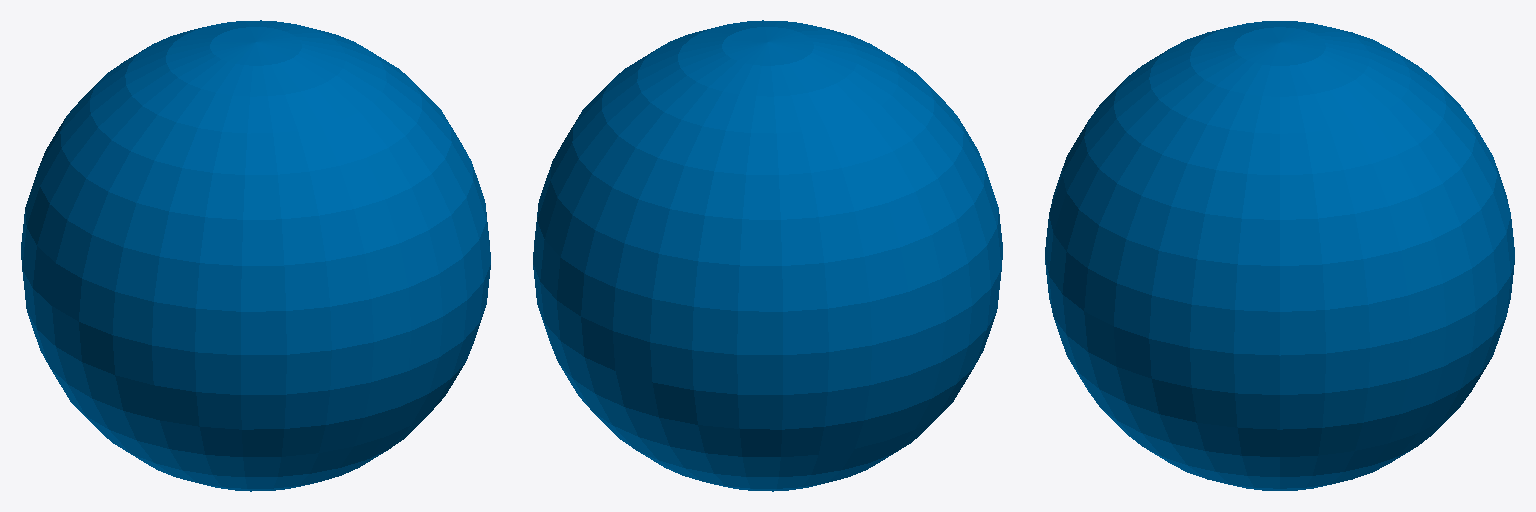
robot.urdf — gen3_robotiq_2f_85:
<?xml version="1.0" ?>
<!-- =================================================================================== -->
<!-- |    This document was autogenerated by xacro from gen3_robotiq_2f_85.xacro       | -->
<!-- |    EDITING THIS FILE BY HAND IS NOT RECOMMENDED                                 | -->
<!-- =================================================================================== -->
<robot name="gen3_robotiq_2f_85">
  <link name="base_link"/>
  <joint name="base_joint" type="fixed">
    <origin rpy="0 0 0" xyz="0 0 0"/>
    <parent link="base_link"/>
    <child link="base_link_inertia"/>
  </joint>

  <!-- Run the macros -->
  <link name="base_link_inertia">
    <inertial>
      <origin rpy="0 0 0" xyz="-0.000648 -0.000166 0.084487"/>
      <mass value="1.697"/>
      <inertia ixx="0.004622" ixy="9E-06" ixz="6E-05" iyy="0.004495" iyz="9E-06" izz="0.002079"/>
    </inertial>
    <visual>
      <origin rpy="0 0 0" xyz="0 0 0"/>
      <geometry>
        <mesh filename="meshes/7dof/base_link.STL"/>
      </geometry>
      <material name="">
        <color rgba="0.75294 0.75294 0.75294 1"/>
      </material>
    </visual>
    <collision>
      <origin rpy="0 0 0" xyz="0 0 0"/>
      <geometry>
        <mesh filename="meshes/7dof/base_link.STL"/>
      </geometry>
    </collision>
  </link>
  <link name="shoulder_link">
    <inertial>
      <origin rpy="0 0 0" xyz="-2.3E-05 -0.010364 -0.07336"/>
      <mass value="1.3773"/>
      <inertia ixx="0.00457" ixy="1E-06" ixz="2E-06" iyy="0.004831" iyz="0.000448" izz="0.001409"/>
    </inertial>
    <visual>
      <origin rpy="0 0 0" xyz="0 0 0"/>
      <geometry>
        <mesh filename="meshes/7dof/shoulder_link.STL"/>
      </geometry>
      <material name="">
        <color rgba="0.75294 0.75294 0.75294 1"/>
      </material>
    </visual>
    <collision>
      <origin rpy="0 0 0" xyz="0 0 0"/>
      <geometry>
        <mesh filename="meshes/7dof/shoulder_link.STL"/>
      </geometry>
    </collision>
  </link>
  <joint name="joint_1" type="revolute">
    <!-- <origin rpy="3.1416 2.7629E-18 -4.9305E-36" xyz="0 0 0.15643"/> -->
    <origin rpy="3.1416 2.7629E-18 -4.9305E-36" xyz="0 0 0.17643"/>
    <parent link="base_link"/>
    <child link="shoulder_link"/>
    <axis xyz="0 0 1"/>
    <limit effort="39" lower="-3.14" upper="3.14" velocity="1.3963"/>
  </joint>
  <link name="half_arm_1_link">
    <inertial>
      <origin rpy="0 0 0" xyz="-4.4E-05 -0.09958 -0.013278"/>
      <mass value="1.1636"/>
      <inertia ixx="0.011088" ixy="5E-06" ixz="0" iyy="0.001072" iyz="-0.000691" izz="0.011255"/>
    </inertial>
    <visual>
      <origin rpy="0 0 0" xyz="0 0 0"/>
      <geometry>
        <mesh filename="meshes/7dof/half_arm_1_link.STL"/>
      </geometry>
      <material name="">
        <color rgba="0.75294 0.75294 0.75294 1"/>
      </material>
    </visual>
    <collision>
      <origin rpy="0 0 0" xyz="0 0 0"/>
      <geometry>
        <mesh filename="meshes/7dof/half_arm_1_link.STL"/>
      </geometry>
    </collision>
  </link>
  <joint name="joint_2" type="revolute">
    <origin rpy="1.5708 2.1343E-17 -1.1102E-16" xyz="0 0.005375 -0.12838"/>
    <parent link="shoulder_link"/>
    <child link="half_arm_1_link"/>
    <axis xyz="0 0 1"/>
    <limit effort="39" lower="-2.24" upper="2.24" velocity="1.3963"/>
  </joint>
  <link name="half_arm_2_link">
    <inertial>
      <origin rpy="0 0 0" xyz="-4.4E-05 -0.006641 -0.117892"/>
      <mass value="1.1636"/>
      <inertia ixx="0.010932" ixy="0" ixz="-7E-06" iyy="0.011127" iyz="0.000606" izz="0.001043"/>
    </inertial>
    <visual>
      <origin rpy="0 0 0" xyz="0 0 0"/>
      <geometry>
        <mesh filename="meshes/7dof/half_arm_2_link.STL"/>
      </geometry>
      <material name="">
        <color rgba="0.75294 0.75294 0.75294 1"/>
      </material>
    </visual>
    <collision>
      <origin rpy="0 0 0" xyz="0 0 0"/>
      <geometry>
        <mesh filename="meshes/7dof/half_arm_2_link.STL"/>
      </geometry>
    </collision>
  </link>
  <joint name="joint_3" type="revolute">
    <origin rpy="-1.5708 1.2326E-32 -2.9122E-16" xyz="0 -0.21038 -0.006375"/>
    <parent link="half_arm_1_link"/>
    <child link="half_arm_2_link"/>
    <axis xyz="0 0 1"/>
    <limit effort="39" lower="-3.14" upper="3.14" velocity="1.3963"/>
  </joint>
  <link name="forearm_link">
    <inertial>
      <origin rpy="0 0 0" xyz="-1.8E-05 -0.075478 -0.015006"/>
      <mass value="0.9302"/>
      <inertia ixx="0.008147" ixy="-1E-06" ixz="0" iyy="0.000631" iyz="-0.0005" izz="0.008316"/>
    </inertial>
    <visual>
      <origin rpy="0 0 0" xyz="0 0 0"/>
      <geometry>
        <mesh filename="meshes/7dof/forearm_link.STL"/>
      </geometry>
      <material name="">
        <color rgba="0.75294 0.75294 0.75294 1"/>
      </material>
    </visual>
    <collision>
      <origin rpy="0 0 0" xyz="0 0 0"/>
      <geometry>
        <mesh filename="meshes/7dof/forearm_link.STL"/>
      </geometry>
    </collision>
  </link>
  <joint name="joint_4" type="revolute">
    <origin rpy="1.5708 -6.6954E-17 -1.6653E-16" xyz="0 0.006375 -0.21038"/>
    <parent link="half_arm_2_link"/>
    <child link="forearm_link"/>
    <axis xyz="0 0 1"/>
    <limit effort="39" lower="-2.57" upper="2.57" velocity="1.3963"/>
  </joint>
  <link name="spherical_wrist_1_link">
    <inertial>
      <origin rpy="0 0 0" xyz="1E-06 -0.009432 -0.063883"/>
      <mass value="0.6781"/>
      <inertia ixx="0.001596" ixy="0" ixz="0" iyy="0.001607" iyz="0.000256" izz="0.000399"/>
    </inertial>
    <visual>
      <origin rpy="0 0 0" xyz="0 0 0"/>
      <geometry>
        <mesh filename="meshes/7dof/spherical_wrist_1_link.STL"/>
      </geometry>
      <material name="">
        <color rgba="0.75294 0.75294 0.75294 1"/>
      </material>
    </visual>
    <collision>
      <origin rpy="0 0 0" xyz="0 0 0"/>
      <geometry>
        <mesh filename="meshes/7dof/spherical_wrist_1_link.STL"/>
      </geometry>
    </collision>
  </link>
  <joint name="joint_5" type="revolute">
    <origin rpy="-1.5708 2.2204E-16 -6.373E-17" xyz="0 -0.20843 -0.006375"/>
    <parent link="forearm_link"/>
    <child link="spherical_wrist_1_link"/>
    <axis xyz="0 0 1"/>
    <limit effort="9" lower="-3.14" upper="3.14" velocity="1.2218"/>
  </joint>
  <link name="spherical_wrist_2_link">
    <inertial>
      <origin rpy="0 0 0" xyz="1E-06 -0.045483 -0.00965"/>
      <mass value="0.6781"/>
      <inertia ixx="0.001641" ixy="0" ixz="0" iyy="0.00041" iyz="-0.000278" izz="0.001641"/>
    </inertial>
    <visual>
      <origin rpy="0 0 0" xyz="0 0 0"/>
      <geometry>
        <mesh filename="meshes/7dof/spherical_wrist_2_link.STL"/>
      </geometry>
      <material name="">
        <color rgba="0.75294 0.75294 0.75294 1"/>
      </material>
    </visual>
    <collision>
      <origin rpy="0 0 0" xyz="0 0 0"/>
      <geometry>
        <mesh filename="meshes/7dof/spherical_wrist_2_link.STL"/>
      </geometry>
    </collision>
  </link>
  <joint name="joint_6" type="revolute">
    <origin rpy="1.5708 9.2076E-28 -8.2157E-15" xyz="0 0.00017505 -0.10593"/>
    <parent link="spherical_wrist_1_link"/>
    <child link="spherical_wrist_2_link"/>
    <axis xyz="0 0 1"/>
    <limit effort="9" lower="-2.09" upper="2.09" velocity="1.2218"/>
  </joint>
  <link name="bracelet_link">
    <inertial>
      <origin rpy="0 0 0" xyz="-9.3E-05 0.000132 -0.022905"/>
      <mass value="0.364"/>
      <inertia ixx="0.000214" ixy="0" ixz="1E-06" iyy="0.000223" iyz="-2E-06" izz="0.00024"/>
    </inertial>
    <visual>
      <origin rpy="0 0 0" xyz="0 0 0"/>
      <geometry>
        <mesh filename="meshes/7dof/bracelet_no_vision_link.STL"/>
      </geometry>
      <material name="">
        <color rgba="0.75294 0.75294 0.75294 1"/>
      </material>
    </visual>
    <collision>
      <origin rpy="0 0 0" xyz="0 0 0"/>
      <geometry>
        <mesh filename="meshes/7dof/bracelet_no_vision_link.STL"/>
      </geometry>
    </collision>
  </link>
  <joint name="joint_7" type="revolute">
    <origin rpy="-1.5708 -5.5511E-17 9.6396E-17" xyz="0 -0.10593 -0.00017505"/>
    <parent link="spherical_wrist_2_link"/>
    <child link="bracelet_link"/>
    <axis xyz="0 0 1"/>
    <limit effort="9" lower="-3.14" upper="3.14" velocity="1.2218"/>
  </joint>
  <link name="end_effector_link"/>
  <joint name="end_effector" type="fixed">
    <origin rpy="3.14159265358979 1.09937075168372E-32 0" xyz="0 0 -0.0615250000000001"/>
    <parent link="bracelet_link"/>
    <child link="end_effector_link"/>
    <axis xyz="0 0 0"/>
  </joint>
  <!-- Tool frame used by the arm -->
  <link name="tool_frame"/>
  <joint name="tool_frame_joint" type="fixed">
    <origin rpy="0 0 0" xyz="0 0 0.120"/>
    <parent link="end_effector_link"/>
    <child link="tool_frame"/>
    <axis xyz="0 0 0"/>
  </joint>
  <!-- This joint was added by Kinova -->
  <joint name="gripper_base_joint" type="fixed">
    <parent link="end_effector_link"/>
    <child link="robotiq_85_base_link"/>
    <origin rpy="0 -1.57079632679 -1.57079632679" xyz="0.0 0.0 0.0"/>
  </joint>

  <link name="robotiq_85_base_link">
    <visual>
      <geometry>
        <mesh filename="meshes/robotiq_85_gripper/visual/robotiq_85_base_link.dae"/>
      </geometry>
    </visual>
    <collision>
      <geometry>
        <mesh filename="meshes/robotiq_85_gripper/collision/robotiq_85_base_link.stl"/>
      </geometry>
    </collision>
    <inertial>
      <mass value="0.636951" />
      <origin xyz="0.0 0.0 0.0" />
      <inertia ixx = "0.000380" ixy = "0.000000" ixz = "0.000000"
            iyx = "0.000000" iyy = "0.001110" iyz = "0.000000"
            izx = "0.000000" izy = "0.000000" izz = "0.001171" />
    </inertial>
  </link>

  <!-- <joint name="robotiq_85_left_knuckle_joint" type="revolute"> -->
  <joint name="robotiq_85_left_knuckle_joint" type="fixed">
    <parent link="robotiq_85_base_link"/>
    <child link="robotiq_85_left_knuckle_link"/>
    <axis xyz="0 0 1"/>
    <origin rpy="3.14 0.0 0.0" xyz="0.05490451627 0.03060114443 0.0"/>
    <!-- <limit lower="0.0" upper="0.80285" velocity="3.14" effort="1000"/> -->
  </joint>

  <!-- <joint name="robotiq_85_right_knuckle_joint" type="revolute"> -->
  <joint name="robotiq_85_right_knuckle_joint" type="fixed">
    <parent link="robotiq_85_base_link"/>
    <child link="robotiq_85_right_knuckle_link"/>
    <axis xyz="0 0 1"/>
    <origin rpy="0.0 0.0 0.0" xyz="0.05490451627 -0.03060114443 0.0"/>
    <!-- <limit lower="-3.14" upper="3.14" velocity="3.14" effort="1000"/>
    <mimic joint="robotiq_85_left_knuckle_joint"/> -->
  </joint>

  <link name="robotiq_85_left_knuckle_link">
    <visual>
      <geometry>
        <mesh filename="meshes/robotiq_85_gripper/visual/robotiq_85_knuckle_link.dae"/>
      </geometry>
    </visual>
    <collision>
      <geometry>
        <mesh filename="meshes/robotiq_85_gripper/collision/robotiq_85_knuckle_link.stl"/>
      </geometry>
    </collision>
    <inertial>
      <mass value="0.018491" />
      <origin xyz="0.0 0.0 0.0" />
      <inertia ixx = "0.000009" ixy = "-0.000001" ixz = "0.000000"
            iyx = "-0.000001" iyy = "0.000001" iyz = "0.000000"
            izx = "0.000000" izy = "0.000000" izz = "0.000010" />
    </inertial>
  </link>

  <link name="robotiq_85_right_knuckle_link">
    <visual>
      <geometry>
        <mesh filename="meshes/robotiq_85_gripper/visual/robotiq_85_knuckle_link.dae"/>
      </geometry>
    </visual>
    <collision>
      <geometry>
        <mesh filename="meshes/robotiq_85_gripper/collision/robotiq_85_knuckle_link.stl"/>
      </geometry>
    </collision>
    <inertial>
      <mass value="0.018491" />
      <origin xyz="0.0 0.0 0.0" />
      <inertia ixx = "0.000009" ixy = "-0.000001" ixz = "0.000000"
            iyx = "-0.000001" iyy = "0.000001" iyz = "0.000000"
            izx = "0.000000" izy = "0.000000" izz = "0.000010" />
    </inertial>
  </link>

  <joint name="robotiq_85_left_finger_joint" type="fixed">
    <parent link="robotiq_85_left_knuckle_link"/>
    <child link="robotiq_85_left_finger_link"/>
    <origin xyz="-0.00408552455 -0.03148604435 0.0" rpy="0 0 0" />
  </joint>

  <joint name="robotiq_85_right_finger_joint" type="fixed">
    <parent link="robotiq_85_right_knuckle_link"/>
    <child link="robotiq_85_right_finger_link"/>
    <origin xyz="-0.00408552455 -0.03148604435 0.0" rpy="0 0 0" />
  </joint>

  <link name="robotiq_85_left_finger_link">
    <visual>
      <geometry>
        <mesh filename="meshes/robotiq_85_gripper/visual/robotiq_85_finger_link.dae"/>
      </geometry>
    </visual>
    <collision>
      <geometry>
        <mesh filename="meshes/robotiq_85_gripper/collision/robotiq_85_finger_link.stl"/>
      </geometry>
    </collision>
    <inertial>
      <mass value="0.027309" />
      <origin xyz="0.0 0.0 0.0" />
      <inertia ixx = "0.000003" ixy = "-0.000002" ixz = "0.000000"
            iyx = "-0.000002" iyy = "0.000021" iyz = "0.000000"
            izx = "0.000000" izy = "0.000000" izz = "0.000020" />
    </inertial>
  </link>

  <link name="robotiq_85_right_finger_link">
    <visual>
      <geometry>
        <mesh filename="meshes/robotiq_85_gripper/visual/robotiq_85_finger_link.dae"/>
      </geometry>
    </visual>
    <collision>
      <geometry>
        <mesh filename="meshes/robotiq_85_gripper/collision/robotiq_85_finger_link.stl"/>
      </geometry>
    </collision>
    <inertial>
      <mass value="0.027309" />
      <origin xyz="0.0 0.0 0.0" />
      <inertia ixx = "0.000003" ixy = "-0.000002" ixz = "0.000000"
            iyx = "-0.000002" iyy = "0.000021" iyz = "0.000000"
            izx = "0.000000" izy = "0.000000" izz = "0.000020" />
    </inertial>
  </link>

  <!-- <joint name="robotiq_85_left_inner_knuckle_joint" type="revolute"> -->
  <joint name="robotiq_85_left_inner_knuckle_joint" type="fixed">
    <parent link="robotiq_85_base_link"/>
    <child link="robotiq_85_left_inner_knuckle_link"/>
    <axis xyz="0 0 1"/>
    <origin xyz="0.06142 0.0127 0" rpy="3.14 0.0 0.0" />
    <!-- <limit lower="-3.14" upper="3.14" velocity="3.14" effort="0.1"/>
    <mimic joint="robotiq_85_left_knuckle_joint" offset="0"/> -->
  </joint>

  <!-- <joint name="robotiq_85_right_inner_knuckle_joint" type="revolute"> -->
  <joint name="robotiq_85_right_inner_knuckle_joint" type="fixed">
    <parent link="robotiq_85_base_link"/>
    <child link="robotiq_85_right_inner_knuckle_link"/>
    <axis xyz="0 0 1"/>
    <origin xyz="0.06142 -0.0127 0" rpy="0 0 0"/>
    <!-- <limit lower="-3.14" upper="3.14" velocity="3.14" effort="0.1"/>
    <mimic joint="robotiq_85_left_knuckle_joint" offset="0"/> -->
  </joint>

  <link name="robotiq_85_left_inner_knuckle_link">
    <visual>
      <geometry>
        <mesh filename="meshes/robotiq_85_gripper/visual/robotiq_85_inner_knuckle_link.dae"/>
      </geometry>
    </visual>
    <collision>
      <geometry>
        <mesh filename="meshes/robotiq_85_gripper/collision/robotiq_85_inner_knuckle_link.stl"/>
      </geometry>
    </collision>
    <inertial>
      <mass value="0.029951" />
      <origin xyz="0.0 0.0 0.0" />
      <inertia ixx = "0.000039" ixy = "0.000000" ixz = "0.000000"
            iyx = "0.000000" iyy = "0.000005" iyz = "0.000000"
            izx = "0.000000" izy = "0.000000" izz = "0.000035" />
    </inertial>
  </link>
  <link name="robotiq_85_right_inner_knuckle_link">
    <visual>
      <geometry>
        <mesh filename="meshes/robotiq_85_gripper/visual/robotiq_85_inner_knuckle_link.dae"/>
      </geometry>
    </visual>
    <collision>
      <geometry>
        <mesh filename="meshes/robotiq_85_gripper/collision/robotiq_85_inner_knuckle_link.stl"/>
      </geometry>
    </collision>
    <inertial>
      <mass value="0.029951" />
      <origin xyz="0.0 0.0 0.0" />
      <inertia ixx = "0.000039" ixy = "0.000000" ixz = "0.000000"
            iyx = "0.000000" iyy = "0.000005" iyz = "0.000000"
            izx = "0.000000" izy = "0.000000" izz = "0.000035" />
    </inertial>
  </link>

  <!-- <joint name="robotiq_85_left_finger_tip_joint" type="revolute"> -->
  <joint name="robotiq_85_left_finger_tip_joint" type="fixed">
    <parent link="robotiq_85_left_inner_knuckle_link"/>
    <child link="robotiq_85_left_finger_tip_link"/>
    <axis xyz="0 0 1"/>
    <origin xyz="0.04303959807 -0.03759940821 0.0" rpy="0.0 0.0 0.0"/>
    <!-- <limit lower="-3.14" upper="3.14" velocity="3.14" effort="0.1"/>
    <mimic joint="robotiq_85_left_knuckle_joint" multiplier="-1"/> -->
  </joint>

  <!-- <joint name="robotiq_85_right_finger_tip_joint" type="revolute"> -->
  <joint name="robotiq_85_right_finger_tip_joint" type="fixed">
    <parent link="robotiq_85_right_inner_knuckle_link"/>
    <child link="robotiq_85_right_finger_tip_link"/>
    <axis xyz="0 0 1"/>
    <origin rpy="0.0 0.0 0.0" xyz="0.04303959807 -0.03759940821  0.0"/>
    <!-- <limit lower="-3.14" upper="3.14" velocity="3.14" effort="0.1"/>
    <mimic joint="robotiq_85_left_knuckle_joint" multiplier="-1"/> -->
  </joint>

  <link name="robotiq_85_left_finger_tip_link">
    <visual>
      <geometry>
        <mesh filename="meshes/robotiq_85_gripper/visual/robotiq_85_finger_tip_link.dae"/>
      </geometry>
    </visual>
    <collision>
      <geometry>
        <mesh filename="meshes/robotiq_85_gripper/collision/robotiq_85_finger_tip_link.stl"/>
      </geometry>
    </collision>
    <inertial>
      <mass value="0.019555" />
      <origin xyz="0.0 0.0 0.0" />
      <inertia ixx = "0.000002" ixy = "0.000000" ixz = "0.000000"
            iyx = "0.000000" iyy = "0.000005" iyz = "0.000000"
            izx = "0.000000" izy = "0.000000" izz = "0.000006" />
    </inertial>
  </link>

  <link name="robotiq_85_right_finger_tip_link">
    <visual>
      <geometry>
        <mesh filename="meshes/robotiq_85_gripper/visual/robotiq_85_finger_tip_link.dae"/>
      </geometry>
    </visual>
    <collision>
      <geometry>
        <mesh filename="meshes/robotiq_85_gripper/collision/robotiq_85_finger_tip_link.stl"/>
      </geometry>
    </collision>
    <inertial>
      <mass value="0.019555" />
      <origin xyz="0.0 0.0 0.0" />
      <inertia ixx = "0.000002" ixy = "0.000000" ixz = "0.000000"
            iyx = "0.000000" iyy = "0.000005" iyz = "0.000000"
            izx = "0.000000" izy = "0.000000" izz = "0.000006" />
    </inertial>
  </link>

  <link name="gripper_base_target">
    <visual>
      <geometry>
        <sphere radius="0.01"/>
      </geometry>
    </visual>
  </link>
  <joint name="gripper_parent_to_target" type="fixed">
    <origin rpy="0 0 -1.57079632679" xyz="0 0 0.045"/>
    <parent link="end_effector_link"/>
    <child link="gripper_base_target"/>
    <axis xyz="0 0 0"/>
  </joint>

</robot>

--- Render facts (derived) ---
The picture shows the robot from 3 angles, left to right: view 1: azimuth 30°, elevation 25°; view 2: azimuth 150°, elevation 25°; view 3: azimuth 270°, elevation 25°; orthographic projection.
Robot: gen3_robotiq_2f_85 — 21 links, 20 joints (7 revolute, 13 fixed); root link base_link; default pose: every joint at zero.
Links seen in each view (by area): view 1: gripper_base_target; view 2: gripper_base_target; view 3: gripper_base_target.
Boxes of the visible links, bbox=[...] form: gripper_base_target: bbox=[21, 20, 490, 491]; gripper_base_target: bbox=[533, 20, 1002, 491]; gripper_base_target: bbox=[1045, 21, 1514, 490].
Size in the robot's own frame: 0.02 by 0.02 by 0.02 metres.
0 mesh visuals loaded from 13 distinct referenced files (none loaded); not drawn: 17 (reference not matched to a file when rendering).